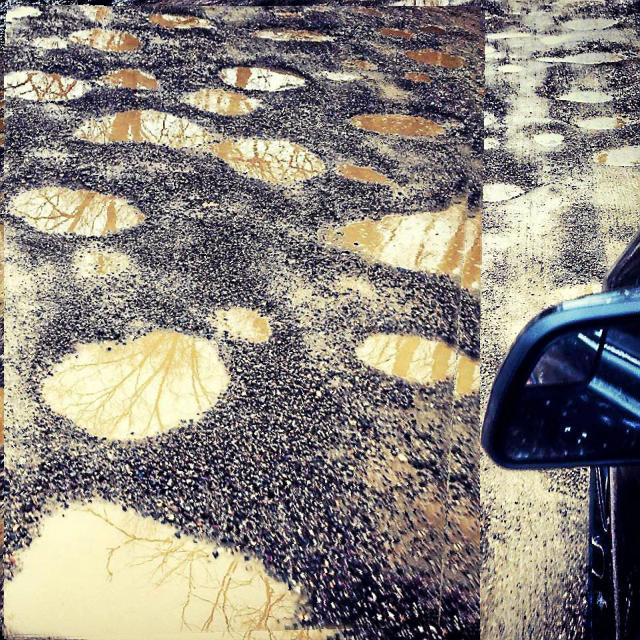Pothole: (4, 6, 482, 640)
